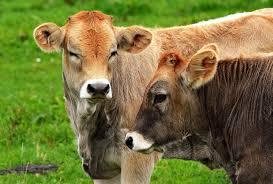cow: (33, 10, 273, 184), (124, 42, 273, 184)
